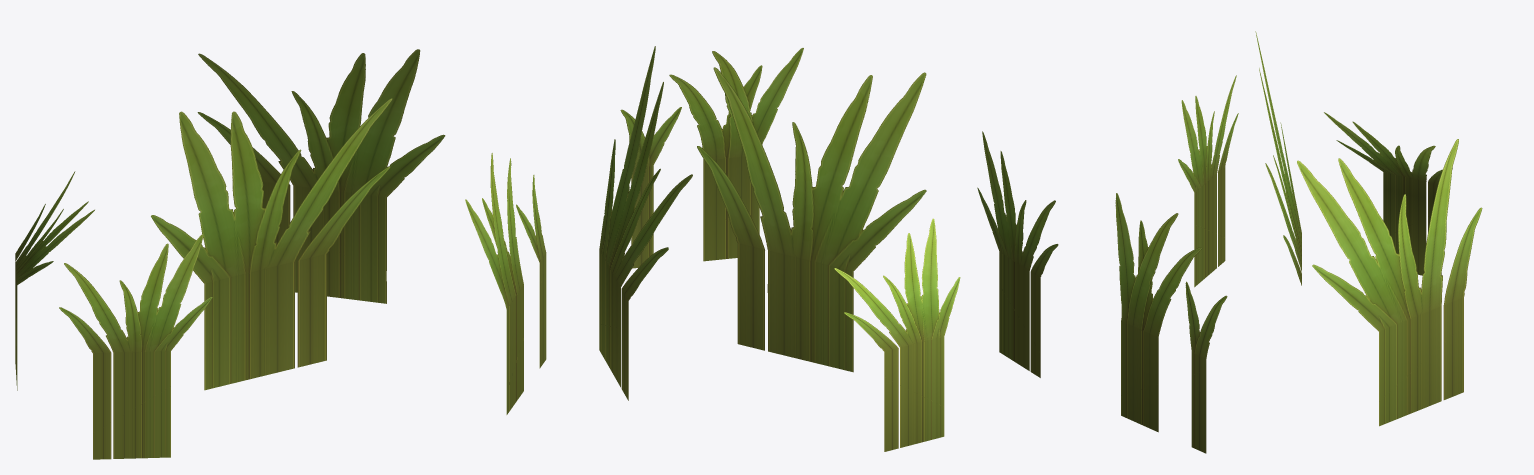
Rendered from Grass04.back.fbx.
The picture shows the model from 3 angles, left to right: view 1: azimuth 30°, elevation 25°; view 2: azimuth 150°, elevation 25°; view 3: azimuth 270°, elevation 25°; orthographic projection. The views are drawn at different scales.
Parts seen in each view (by area): view 1: Stylized_Grass_alpha_4_LOD0; view 2: Stylized_Grass_alpha_4_LOD0; view 3: Stylized_Grass_alpha_4_LOD0.
Boxes of the visible parts, left/top/right/bottom form: Stylized_Grass_alpha_4_LOD0: left=15, top=49, right=546, bottom=459; Stylized_Grass_alpha_4_LOD0: left=599, top=46, right=1058, bottom=451; Stylized_Grass_alpha_4_LOD0: left=1115, top=31, right=1482, bottom=453.
Size of what is drawn, in the model's own units: 49.56 by 29.86 by 41.44.
1 material, 1 textured.
